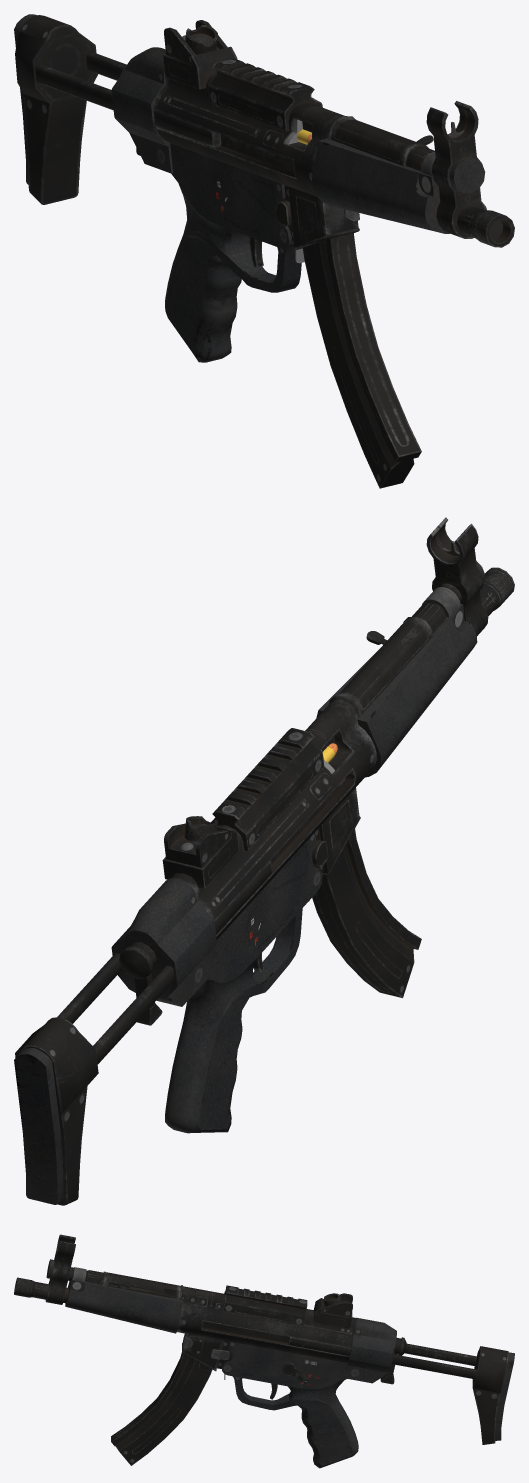
Rendered from gun.obj.
3 views of the same model, one above another, from view 1: azimuth 30°, elevation 25°; view 2: azimuth 150°, elevation 25°; view 3: azimuth 270°, elevation 25° (orthographic). The views are drawn at different scales.
Parts seen in each view (by area): view 1: Object_9; view 2: Object_9; view 3: Object_9.
Part boxes in pixels (x1,y1,x2,y2): Object_9: (14, 14, 514, 488); Object_9: (14, 517, 514, 1205); Object_9: (14, 1234, 514, 1468).
Bounding box in the file's own units: 5.82 × 34.63 × 69.01.
